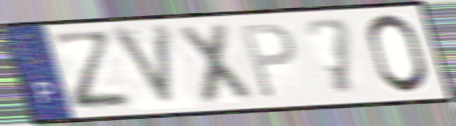7: (303, 16, 358, 99)
O: (365, 12, 432, 97)
P: (238, 21, 299, 102)
V: (107, 21, 181, 112)
X: (174, 20, 257, 107)
Z: (47, 29, 136, 114)
